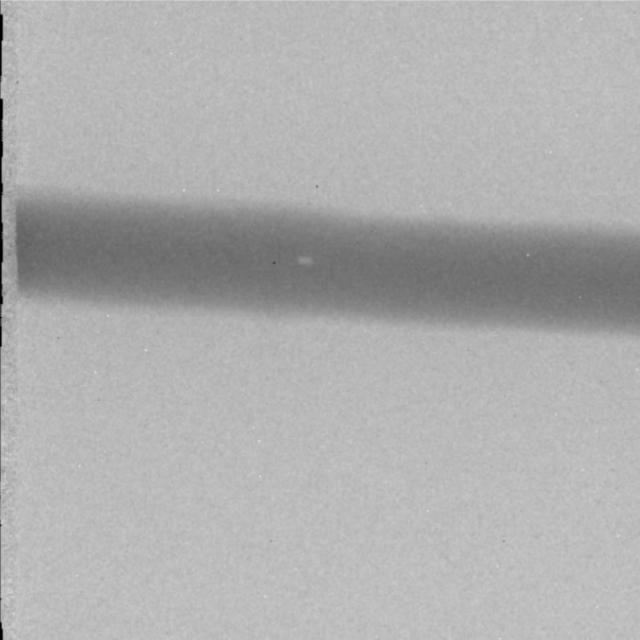air hole: (294, 253, 315, 267)
